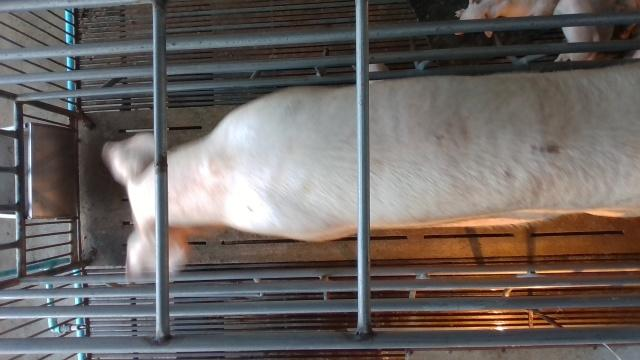piglet: (455, 0, 560, 37), (553, 0, 600, 61)
sow-stand: (101, 62, 640, 283)
